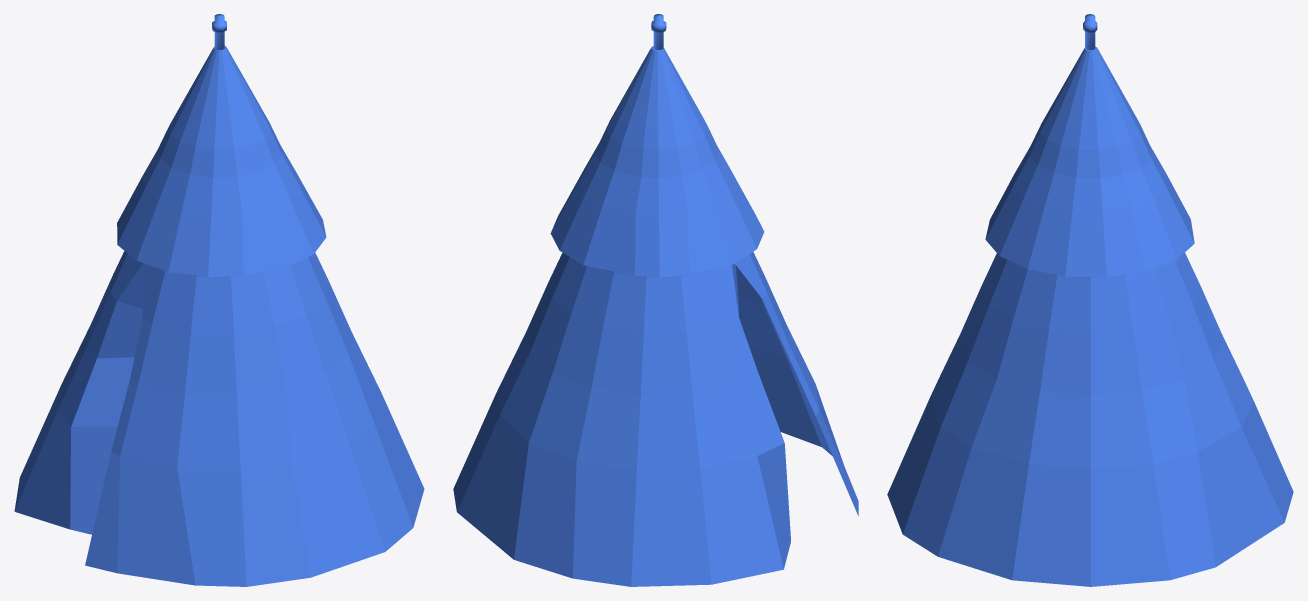
Rendered from Military_Tent_Variant3.fbx.
3 renders of one model, left to right at view 1: azimuth 30°, elevation 25°; view 2: azimuth 150°, elevation 25°; view 3: azimuth 270°, elevation 25°, orthographic.
Parts seen in each view (by area): view 1: Military_Tent_Variant3; view 2: Military_Tent_Variant3; view 3: Military_Tent_Variant3.
Boxes of the visible parts, x1,y1,x2,y2 form: Military_Tent_Variant3: [14, 14, 424, 586]; Military_Tent_Variant3: [453, 14, 858, 586]; Military_Tent_Variant3: [887, 14, 1293, 586].
Size of the model in its own units: 285 by 382 by 290.
